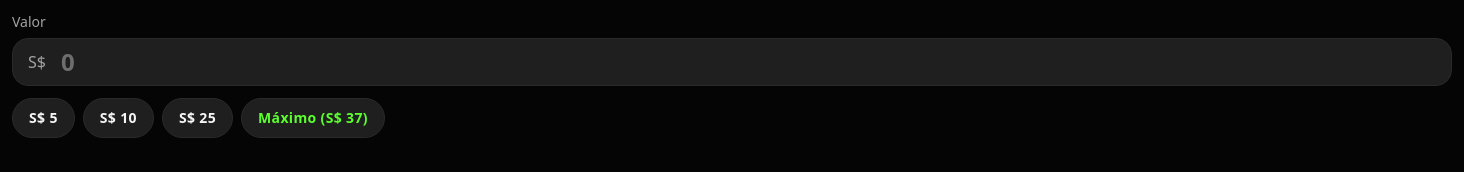
<TecladoValor> › botão "máximo" usa o limite informado
What coordinates should you click on to do the following:
click the button "Máximo (S$ 37)"
I would click on:
 (313, 118)
Its box is left=241, top=98, right=385, bottom=138.
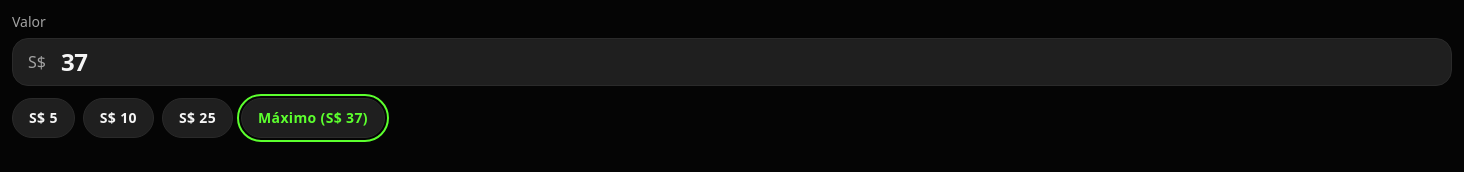
Check: the field labelled "Valor" holds "37", box left=12, top=38, right=1452, bottom=86
